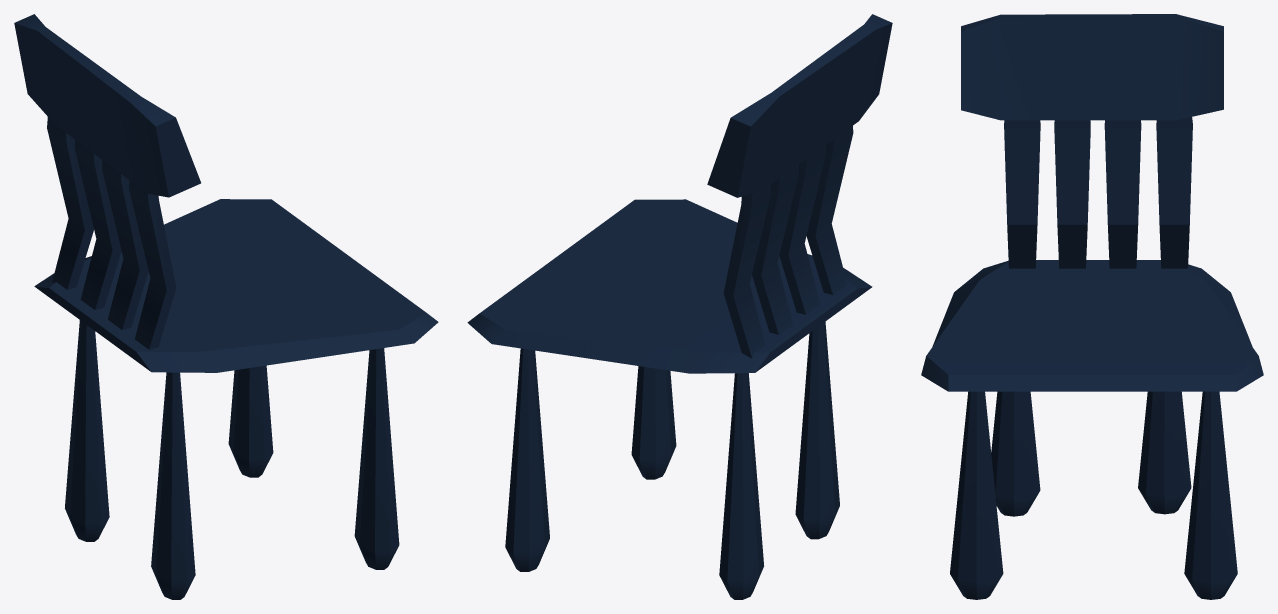
File: CHAIR_TEXTURE.obj
The picture shows the model from 3 angles, left to right: view 1: azimuth 30°, elevation 25°; view 2: azimuth 150°, elevation 25°; view 3: azimuth 270°, elevation 25°; orthographic projection. The views are drawn at different scales.
Visible parts, largest first — view 1: textureEditorIsolateSelectSet Leg5 back Chair_Seat, textureEditorIsolateSelectSet back, textureEditorIsolateSelectSet Leg5 back, textureEditorIsolateSelectSet Leg5 back Leg1, textureEditorIsolateSelectSet Leg5 back Leg4, textureEditorIsolateSelectSet back Wood, textureEditorIsolateSelectSet Leg5 back Leg2, textureEditorIsolateSelectSet back wood3, textureEditorIsolateSelectSet back wood2, textureEditorIsolateSelectSet back wood1; view 2: textureEditorIsolateSelectSet Leg5 back Chair_Seat, textureEditorIsolateSelectSet back, textureEditorIsolateSelectSet Leg5 back Leg4, textureEditorIsolateSelectSet Leg5 back Leg2, textureEditorIsolateSelectSet Leg5 back, textureEditorIsolateSelectSet back wood3, textureEditorIsolateSelectSet Leg5 back Leg1, textureEditorIsolateSelectSet back wood2, textureEditorIsolateSelectSet back wood1, textureEditorIsolateSelectSet back Wood; view 3: textureEditorIsolateSelectSet Leg5 back Chair_Seat, textureEditorIsolateSelectSet back, textureEditorIsolateSelectSet Leg5 back Leg2, textureEditorIsolateSelectSet Leg5 back Leg1, textureEditorIsolateSelectSet Leg5 back Leg4, textureEditorIsolateSelectSet Leg5 back, textureEditorIsolateSelectSet back wood3, textureEditorIsolateSelectSet back Wood, textureEditorIsolateSelectSet back wood1, textureEditorIsolateSelectSet back wood2.
Part boxes in pixels (box(x1,y1,x2,y2)): textureEditorIsolateSelectSet Leg5 back Chair_Seat: box(34, 199, 438, 372); textureEditorIsolateSelectSet back: box(14, 14, 200, 197); textureEditorIsolateSelectSet Leg5 back: box(151, 372, 195, 599); textureEditorIsolateSelectSet Leg5 back Leg1: box(354, 348, 399, 569); textureEditorIsolateSelectSet Leg5 back Leg4: box(65, 320, 109, 541); textureEditorIsolateSelectSet back Wood: box(129, 180, 176, 349); textureEditorIsolateSelectSet Leg5 back Leg2: box(228, 365, 273, 477); textureEditorIsolateSelectSet back wood3: box(47, 117, 93, 289); textureEditorIsolateSelectSet back wood2: box(74, 140, 121, 309); textureEditorIsolateSelectSet back wood1: box(102, 160, 148, 329); textureEditorIsolateSelectSet Leg5 back Chair_Seat: box(467, 199, 872, 373); textureEditorIsolateSelectSet back: box(707, 14, 892, 197); textureEditorIsolateSelectSet Leg5 back Leg4: box(719, 373, 763, 599); textureEditorIsolateSelectSet Leg5 back Leg2: box(505, 348, 549, 571); textureEditorIsolateSelectSet Leg5 back: box(795, 321, 839, 539); textureEditorIsolateSelectSet back wood3: box(723, 184, 771, 358); textureEditorIsolateSelectSet Leg5 back Leg1: box(631, 366, 676, 479); textureEditorIsolateSelectSet back wood2: box(752, 164, 798, 334); textureEditorIsolateSelectSet back wood1: box(779, 145, 826, 314); textureEditorIsolateSelectSet back Wood: box(806, 126, 853, 294); textureEditorIsolateSelectSet Leg5 back Chair_Seat: box(921, 260, 1263, 391); textureEditorIsolateSelectSet back: box(961, 14, 1223, 120); textureEditorIsolateSelectSet Leg5 back Leg2: box(1184, 391, 1237, 599); textureEditorIsolateSelectSet Leg5 back Leg1: box(950, 391, 1003, 599); textureEditorIsolateSelectSet Leg5 back Leg4: box(1138, 391, 1191, 514); textureEditorIsolateSelectSet Leg5 back: box(991, 391, 1040, 516); textureEditorIsolateSelectSet back wood3: box(1156, 117, 1192, 268); textureEditorIsolateSelectSet back Wood: box(1004, 120, 1040, 268); textureEditorIsolateSelectSet back wood1: box(1054, 120, 1090, 268); textureEditorIsolateSelectSet back wood2: box(1104, 120, 1141, 268).
Bounding box in the file's own units: 3.89 × 6.79 × 4.41.
